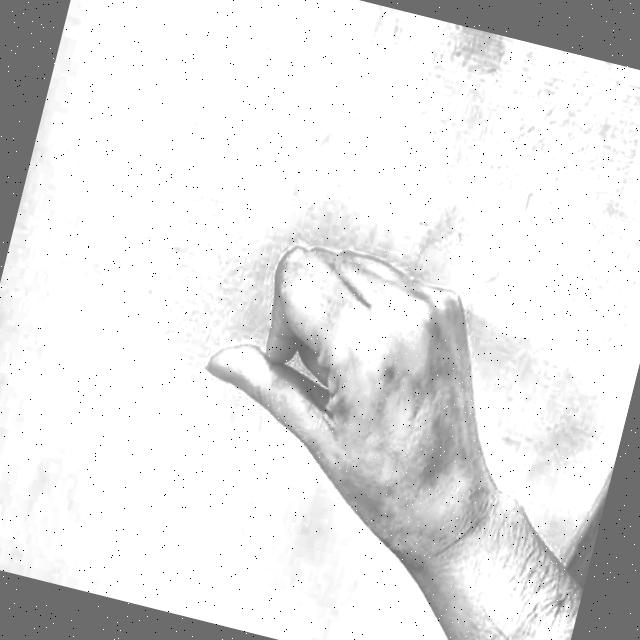Ay: (138, 174, 512, 622)
